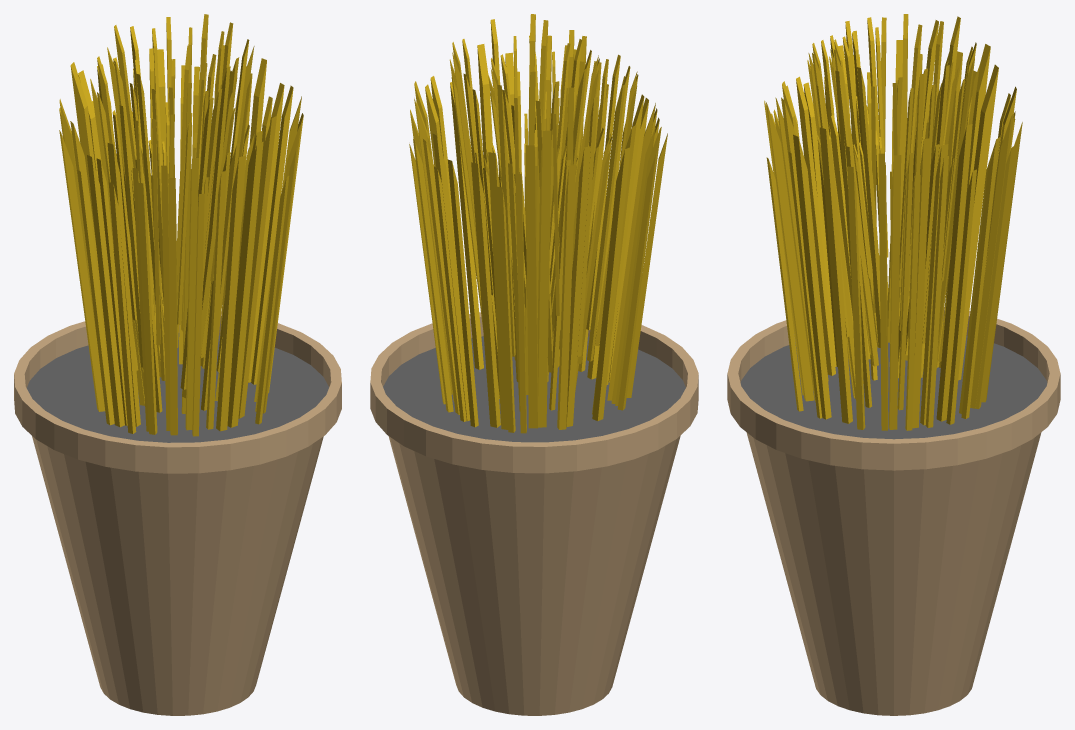
File: plant.fbx
3 renders of one model, left to right at view 1: azimuth 30°, elevation 25°; view 2: azimuth 150°, elevation 25°; view 3: azimuth 270°, elevation 25°, orthographic.
Visible parts, largest first — view 1: plant:Mesh; view 2: plant:Mesh; view 3: plant:Mesh.
Boxes of the visible parts, x1,y1,x2,y2 form: plant:Mesh: (14, 14, 341, 715); plant:Mesh: (370, 14, 698, 715); plant:Mesh: (727, 14, 1060, 715).
Size of the model in its own units: 2.14 by 4.61 by 2.14.
